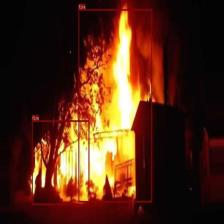fire: (78, 9, 152, 202), (32, 120, 89, 205)
